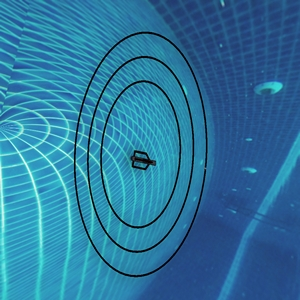circle: (58, 23, 242, 275)
